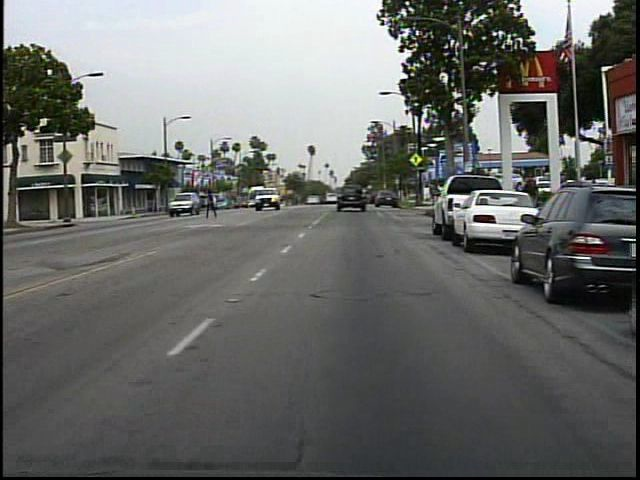person: (517, 169, 545, 226), (202, 185, 221, 221)
